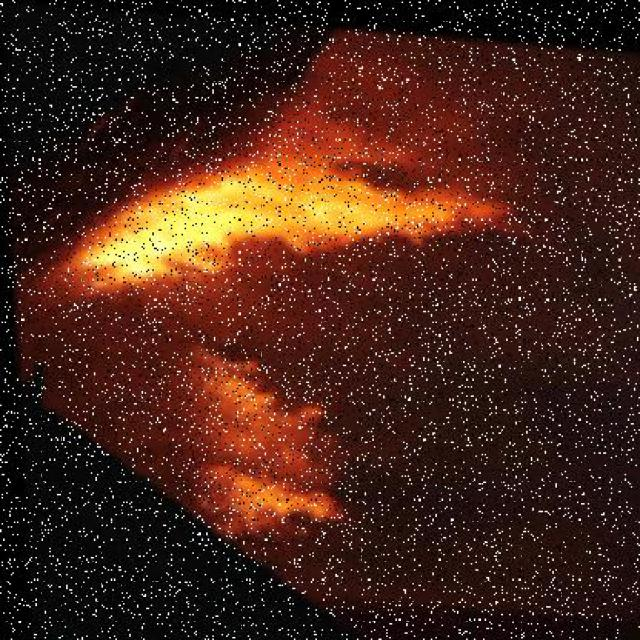fire: (54, 60, 502, 571)
